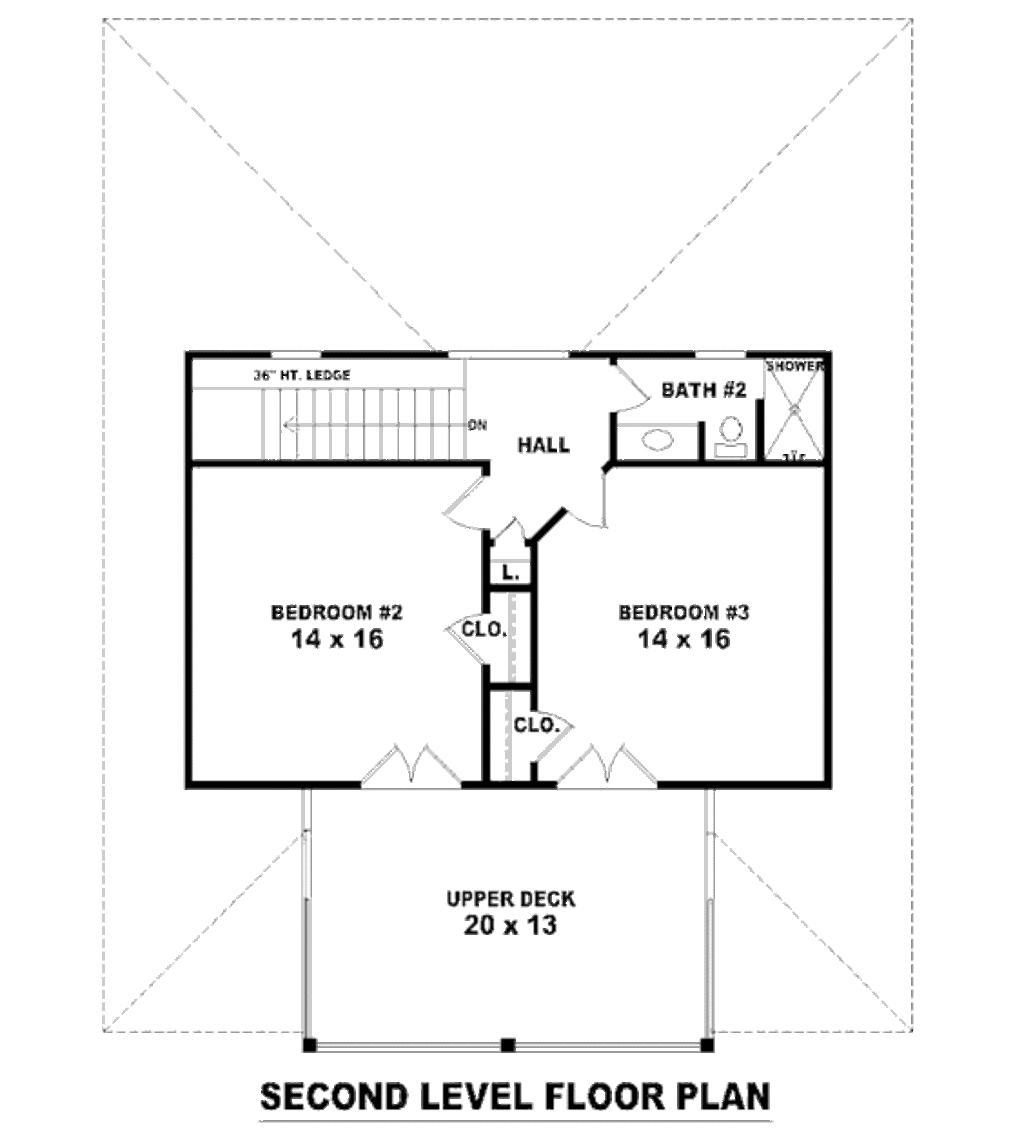door: (356, 739, 457, 791), (558, 744, 657, 792), (568, 473, 615, 541), (439, 476, 487, 538), (610, 367, 656, 410)
large_sink: (701, 410, 754, 459)
small_sink: (615, 425, 706, 460)
stairs: (181, 382, 493, 469)
windows: (438, 342, 576, 363)
